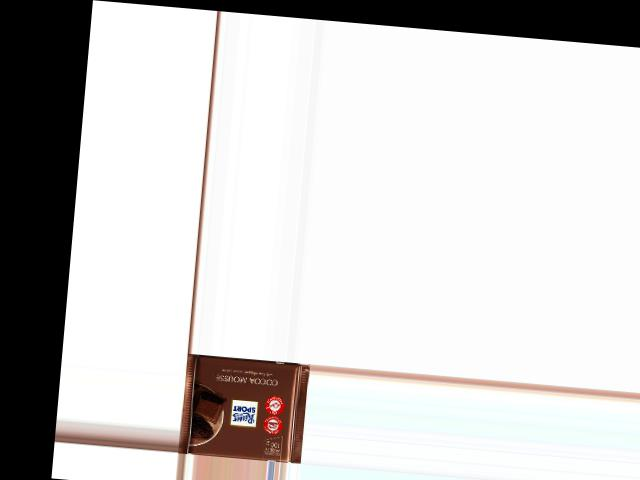chocolate: (178, 352, 307, 463)
